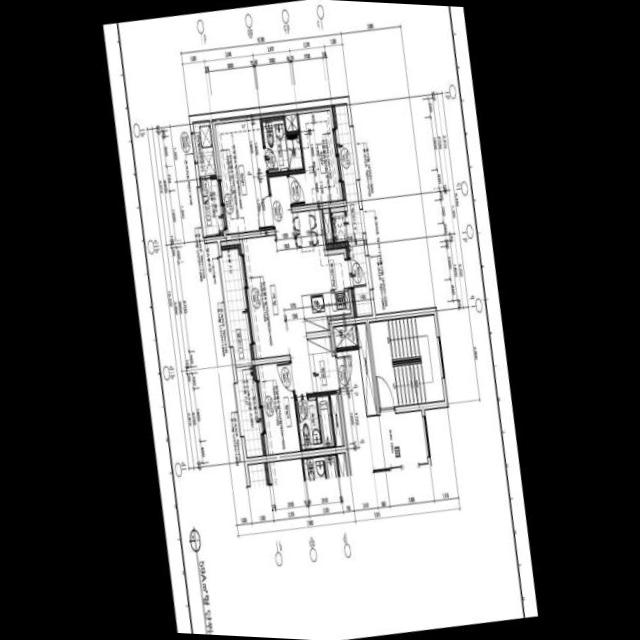background: (102, 0, 538, 640)
space_balconi: (331, 104, 372, 316), (221, 248, 262, 457), (199, 179, 223, 236)
space_bedroom: (212, 114, 272, 234), (289, 105, 342, 205), (255, 361, 299, 454)
space_front: (306, 336, 339, 393)
space_kitchen: (291, 209, 353, 332)
space_living_room: (239, 175, 313, 394)
space_other: (336, 350, 427, 472), (356, 323, 376, 415), (192, 120, 215, 176), (330, 394, 344, 446), (333, 324, 356, 348), (322, 208, 332, 243), (284, 110, 298, 131)
space_staircase: (369, 315, 444, 408)
space_toilet: (262, 120, 302, 172), (296, 396, 333, 449)
